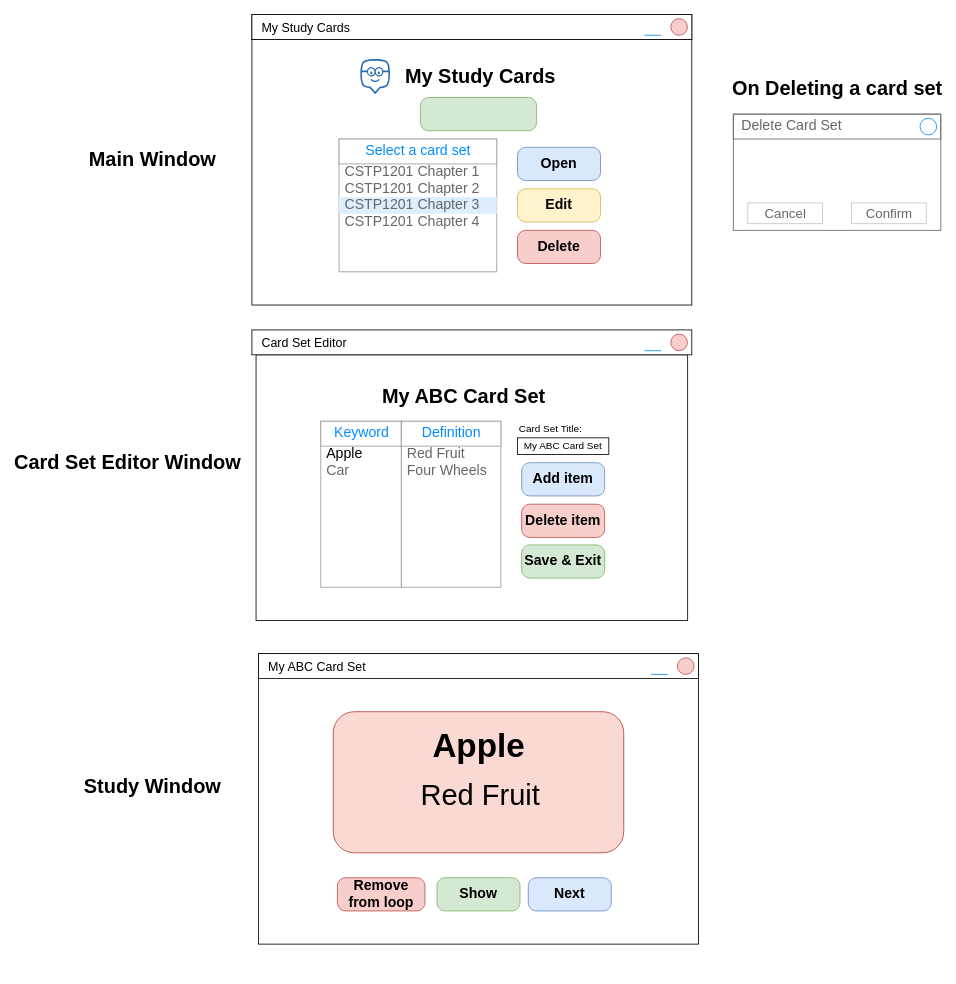
The diagram is 956 pixels wide and 984 high, and some of its shapes have lost their labels. The centre of each missing label's shape, as x and y in pixels:
"Are you sure?" goes at point (836, 171).
"New Card Set" goes at point (478, 114).
